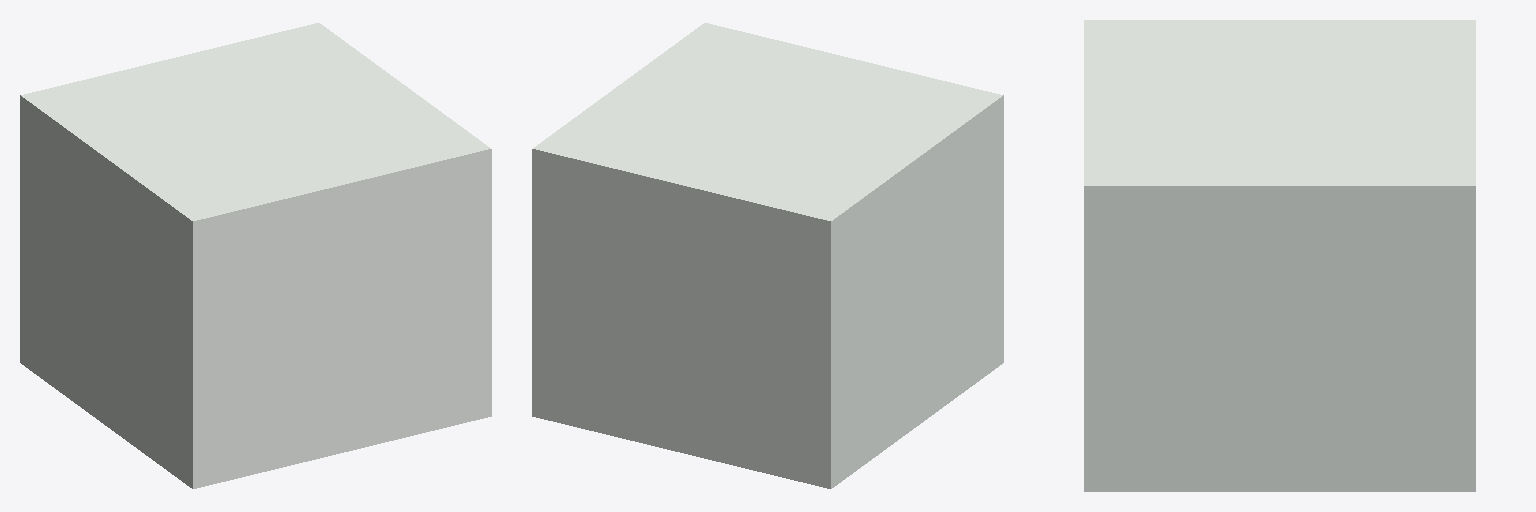
URDF robot description (parttoolgen_hammer_white_target_block_035x035x030):
<?xml version="1.0"?>
<robot name="parttoolgen_hammer_white_target_block_035x035x030">
  <link name="white_target_block">
    <visual>
      <material name="matte_white_target_block">
        <color rgba="0.96 0.98 0.96 1.0"/>
      </material>
      <origin xyz="0 0 0"/>
      <geometry>
        <box size="0.035 0.035 0.030"/>
      </geometry>
    </visual>
    <collision>
      <origin xyz="0 0 0"/>
      <geometry>
        <box size="0.035 0.035 0.030"/>
      </geometry>
    </collision>
    <inertial>
      <mass value="0.20"/>
      <inertia ixx="0.000020" ixy="0.0" ixz="0.0" iyy="0.000020" iyz="0.0" izz="0.000020"/>
    </inertial>
  </link>
</robot>

--- Facts derived from the render (not from the file) ---
The picture shows the robot from 3 angles, left to right: view 1: azimuth 30°, elevation 25°; view 2: azimuth 150°, elevation 25°; view 3: azimuth 270°, elevation 25°; orthographic projection.
Robot: parttoolgen_hammer_white_target_block_035x035x030 — 1 links, 0 joints (none); root link white_target_block; default pose: every joint at zero.
Visible links, largest first — view 1: white_target_block; view 2: white_target_block; view 3: white_target_block.
Link boxes in pixels (box(x1,y1,x2,y2)): white_target_block: box(20, 23, 491, 488); white_target_block: box(532, 23, 1003, 488); white_target_block: box(1084, 20, 1475, 491).
Bounding box of the posed robot: 0.035 × 0.035 × 0.03 m (x, y, z).
Geometry: primitives only (box / cylinder / sphere), no mesh files.
